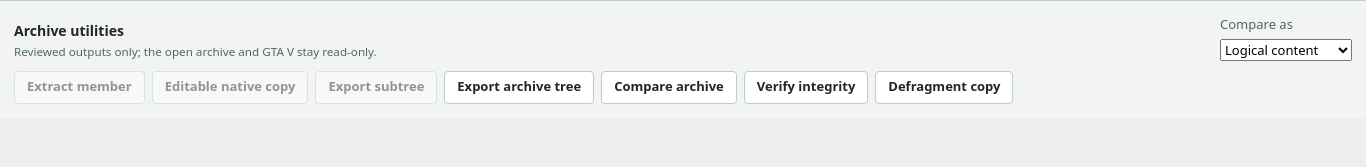
Test: rejects review evidence for a different destination and ignores duplicate terminals
The image size is (1366, 167).
Click the button "Verify integrity": {"x": 806, "y": 87} [744,70,868,104]
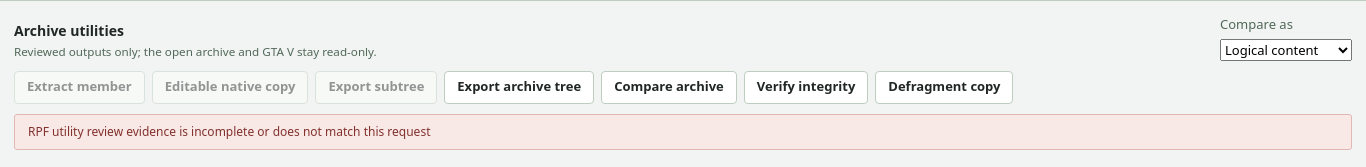
Expected: the message shows "does not match this request", [28,122,430,140]
